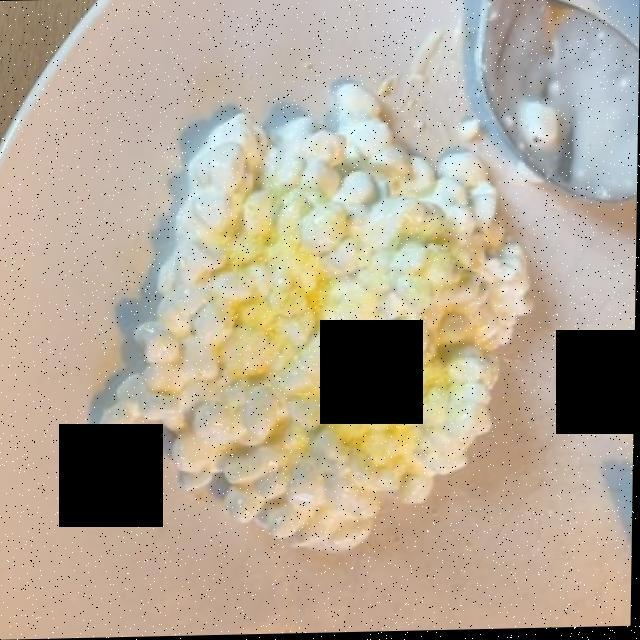cheese: (92, 75, 566, 553)
